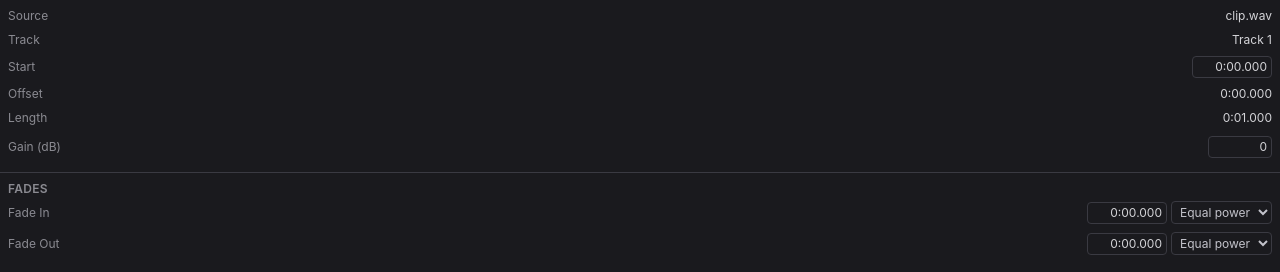
Scenario: fade length inputs — bound to the store clamp, local-draft pattern › commits plain seconds through setClipFade on Enter and echoes the stored value
Replace the text in the field named "Fade in length" with "0.5". click: (1127, 212)
box: left=1087, top=202, right=1167, bottom=224
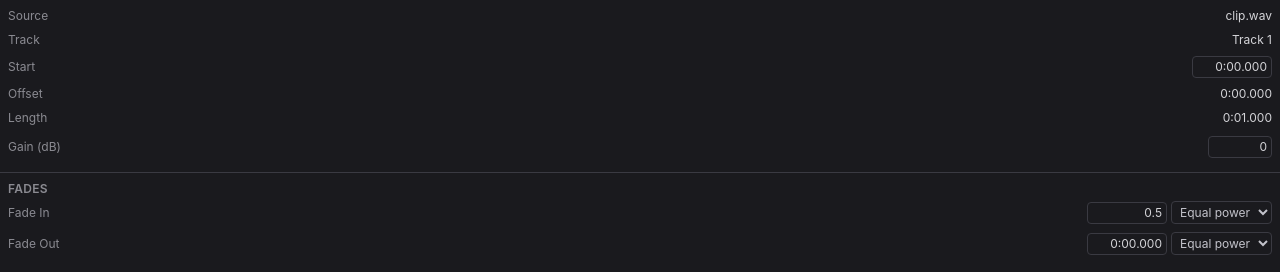
Press Enter in the field named "Fade in length", box left=1087, top=202, right=1167, bottom=224
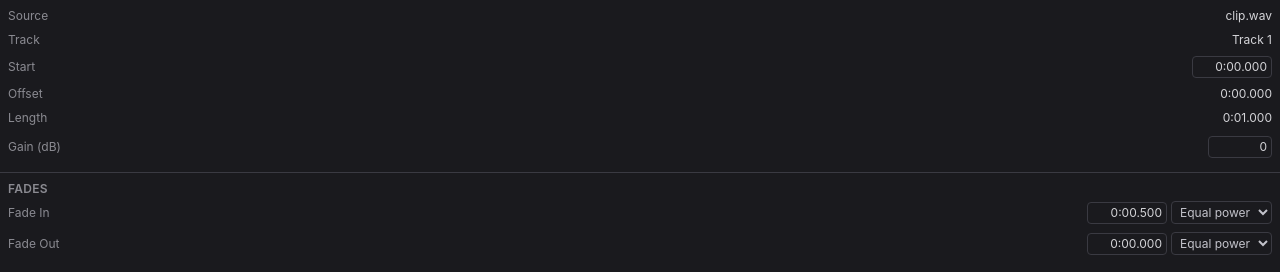
Now the field named "Fade in length" holds "0:00.500", box left=1087, top=202, right=1167, bottom=224
